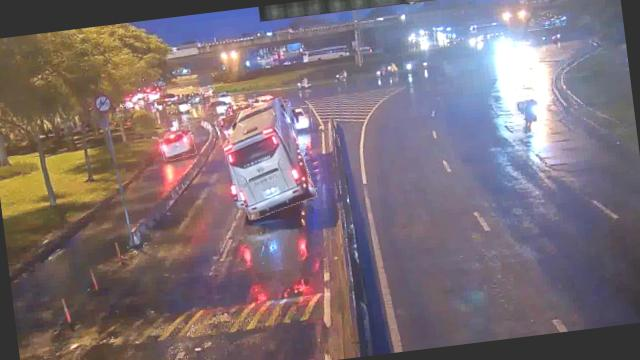Bike: (520, 97, 542, 135)
Bus: (218, 98, 312, 219)
Car: (157, 124, 195, 160), (290, 106, 312, 130)
